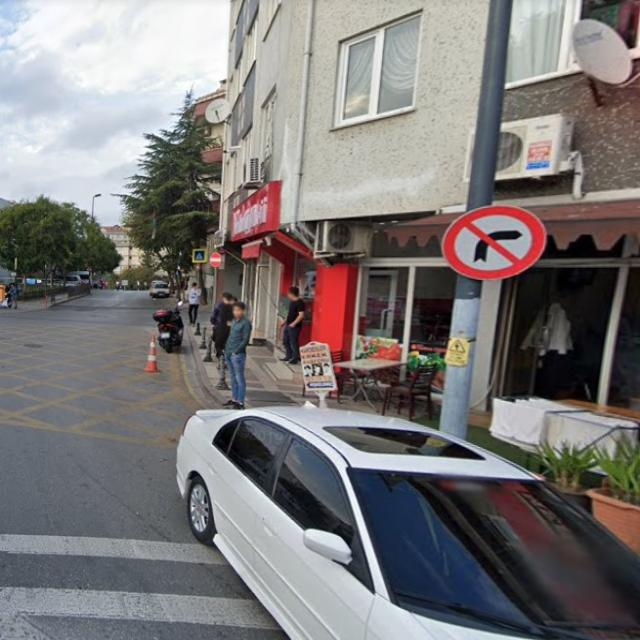girisyok: (210, 251, 221, 266)
sagadonulmez: (440, 205, 546, 282)
